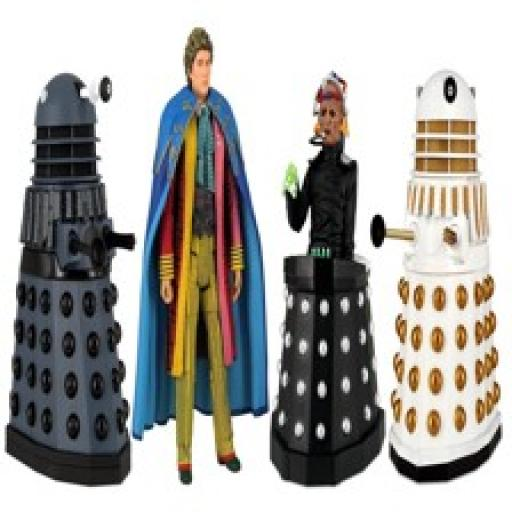dalek: (365, 64, 512, 485), (3, 68, 133, 482), (266, 232, 390, 488)
